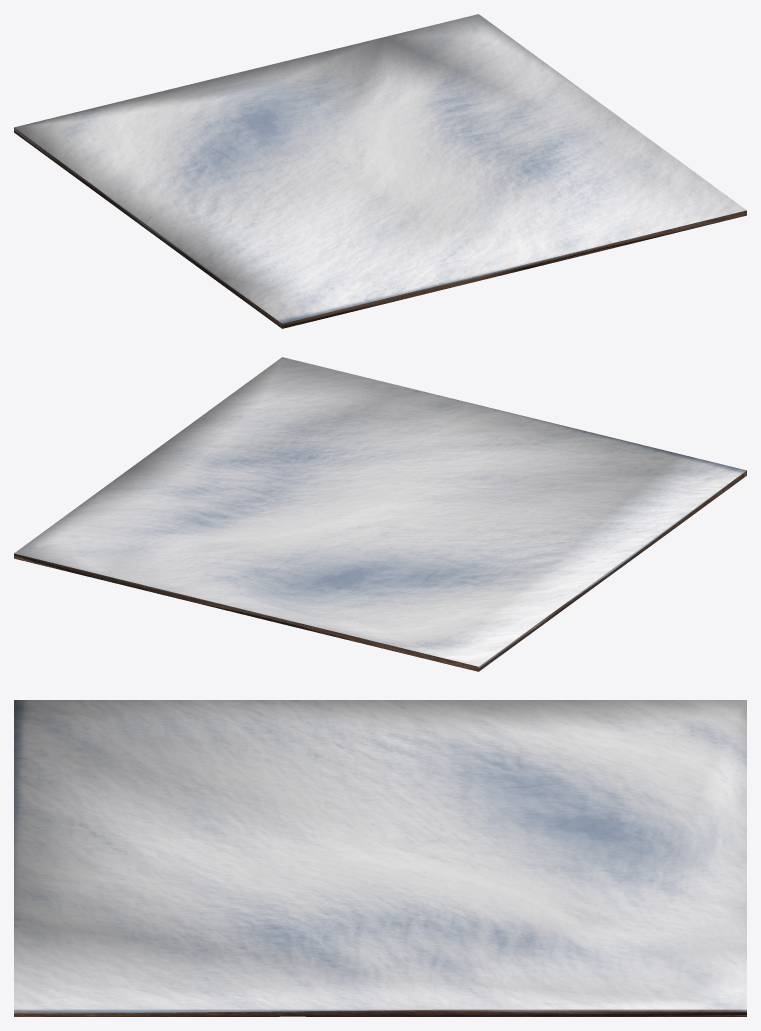
3 renders of one model, top to bottom at view 1: azimuth 30°, elevation 25°; view 2: azimuth 150°, elevation 25°; view 3: azimuth 270°, elevation 25°, orthographic. The views are drawn at different scales.
Visible parts, largest first — view 1: snow-ground.002; view 2: snow-ground.002; view 3: snow-ground.002.
Boxes of the visible parts, x1,y1,x2,y2 form: snow-ground.002: [14, 14, 746, 328]; snow-ground.002: [14, 357, 746, 671]; snow-ground.002: [14, 700, 746, 1016].
Bounding box in the file's own units: 32 × 0.421 × 32.
Materials: 2 (2 with a texture image).
